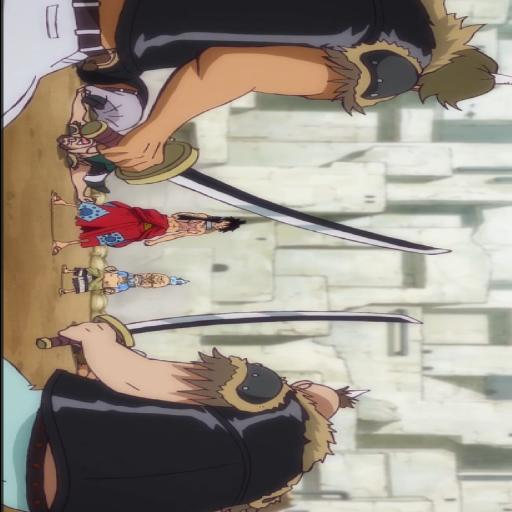Luffy: (47, 202, 278, 250)
